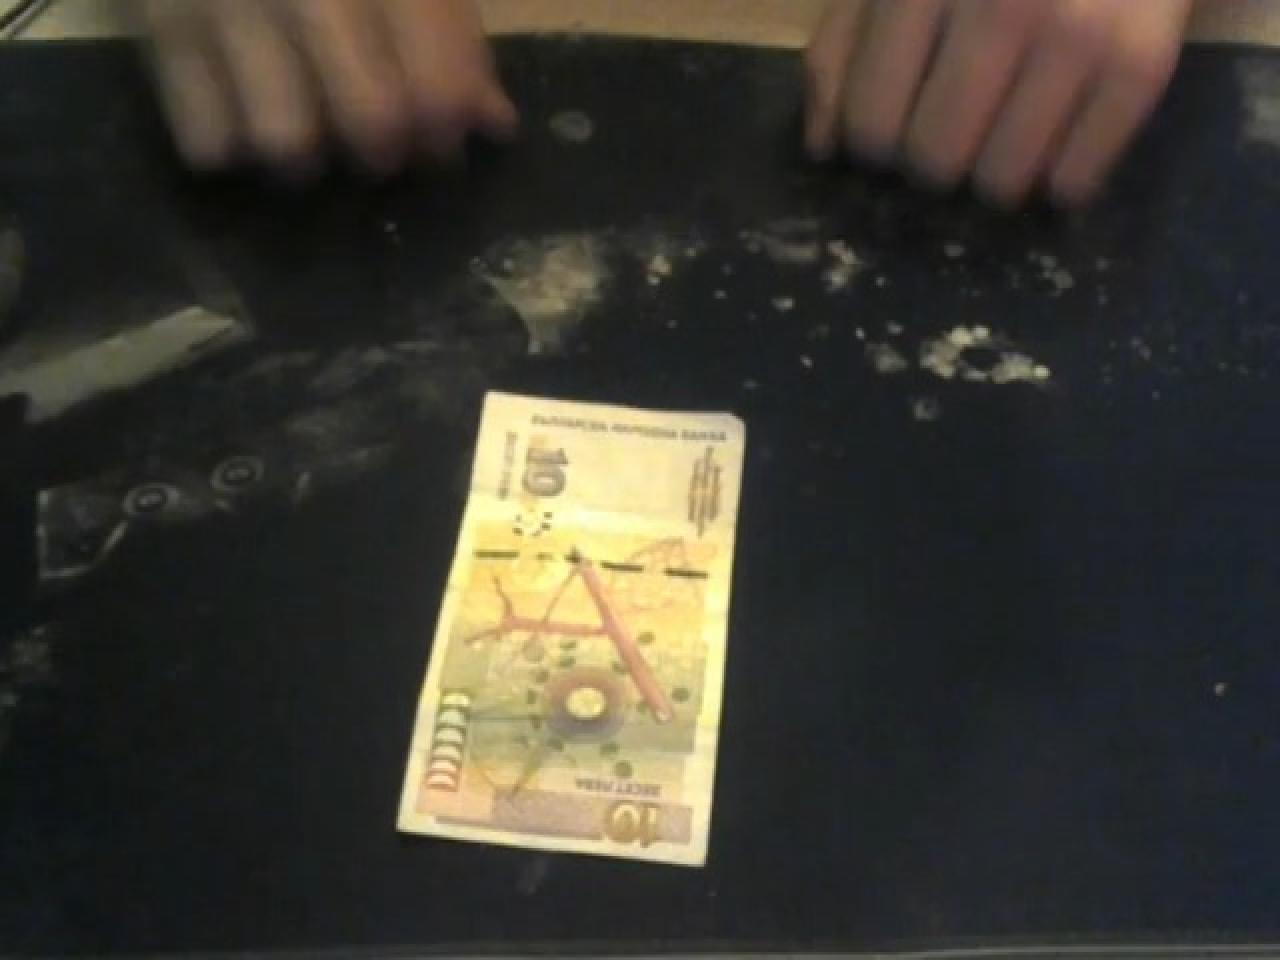10leva: (394, 394, 746, 866)
